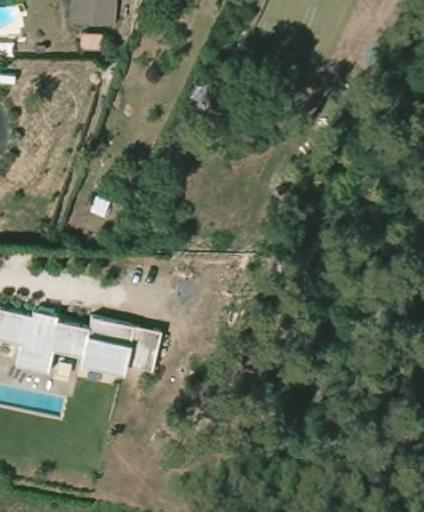pool: (0, 379, 67, 421), (0, 1, 25, 36)
